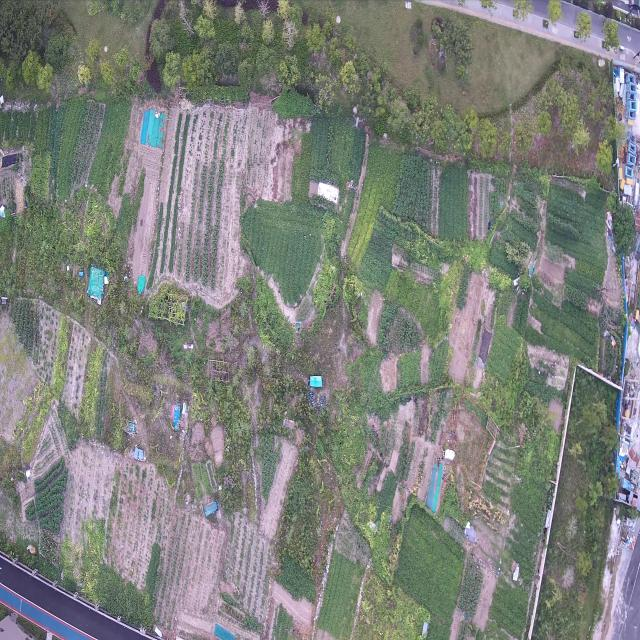UAV: (352, 114, 363, 131)
